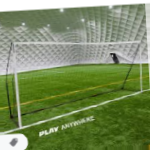goals: (3, 38, 146, 131)
